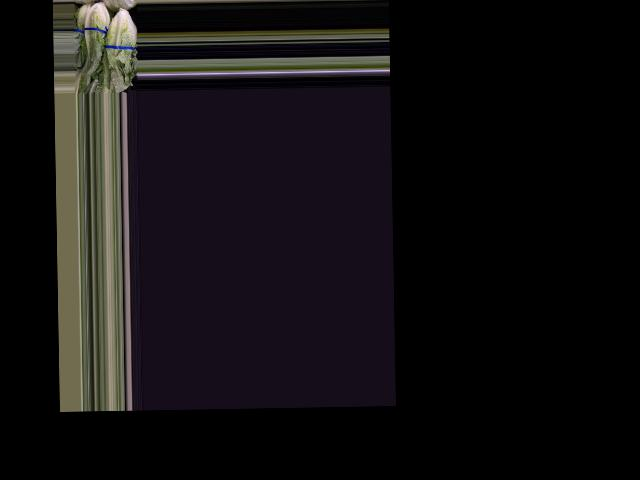lettuce: (77, 1, 111, 77)
